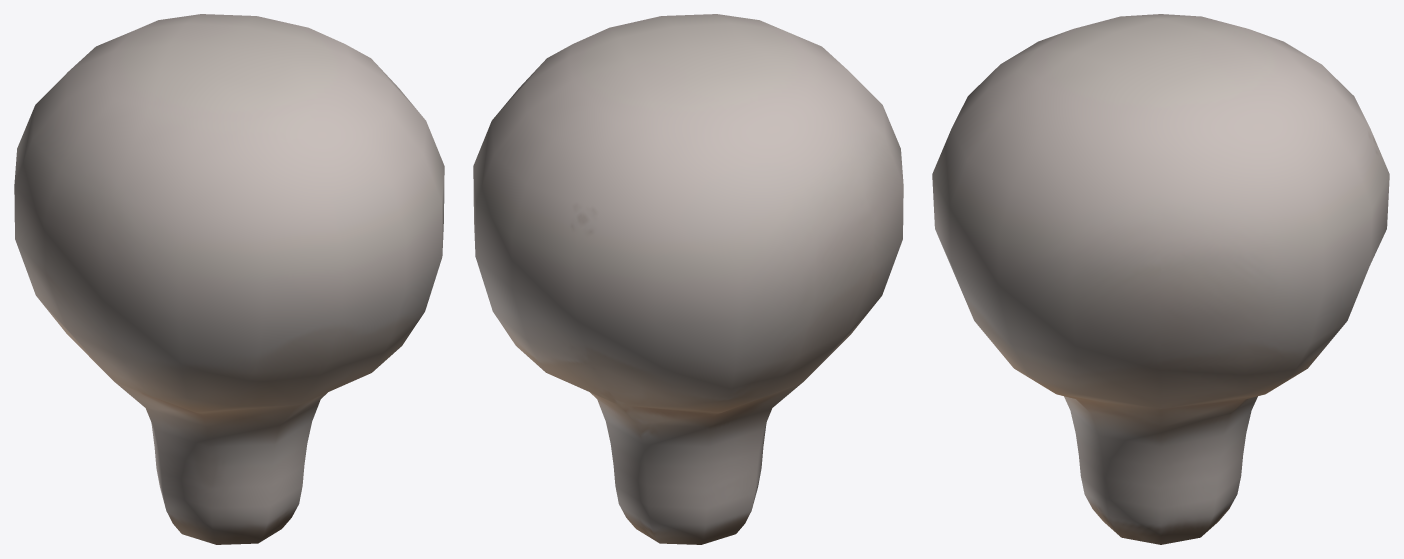
Rendered from PuffBall_003.fbx.
3 renders of one model, left to right at view 1: azimuth 30°, elevation 25°; view 2: azimuth 150°, elevation 25°; view 3: azimuth 270°, elevation 25°, orthographic.
Parts seen in each view (by area): view 1: BuffBall_03_LOD0; view 2: BuffBall_03_LOD0; view 3: BuffBall_03_LOD0.
Part boxes in pixels (x1,y1,x2,y2): BuffBall_03_LOD0: (14, 14, 444, 544); BuffBall_03_LOD0: (473, 14, 903, 544); BuffBall_03_LOD0: (932, 14, 1389, 544).
Size of what is drawn, in the model's own units: 8.24 by 10.04 by 8.78.
